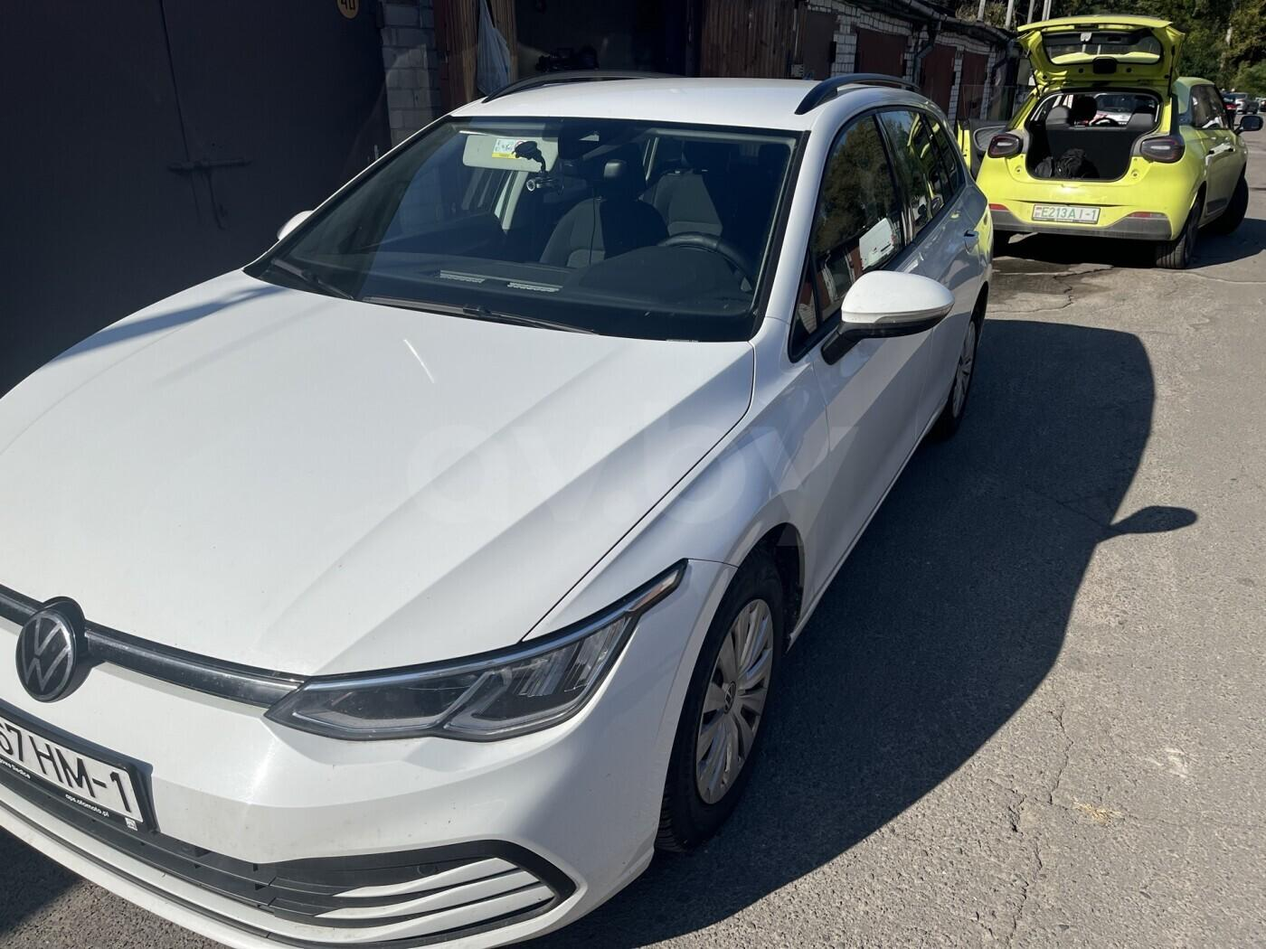Golf_2019: (0, 67, 998, 932)
